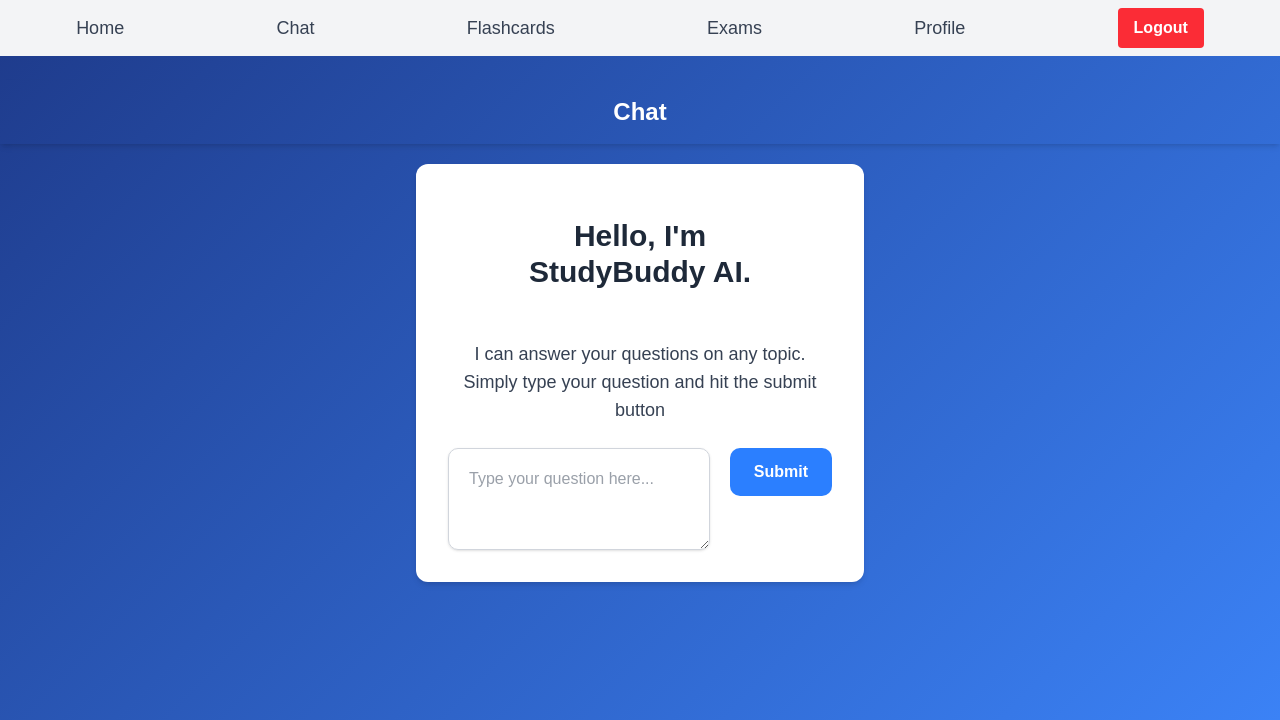
Test: ChatPage Feature › should send a prompt and display a reply
Type "What is the capital of Spain?" into the text box with placeholder "Type your question here..." at (579, 499), box 448,448 -> 710,550
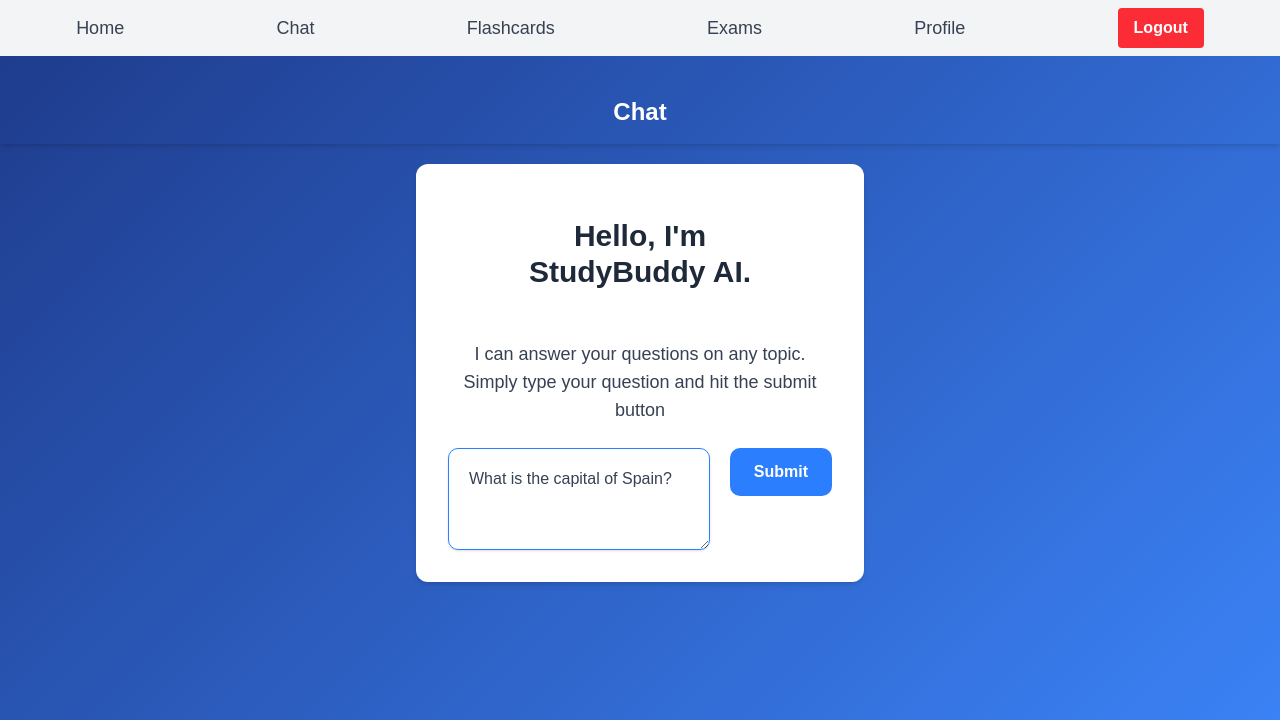
Click the button with id "submit-prompt" at (781, 472), box 730,448 -> 832,496
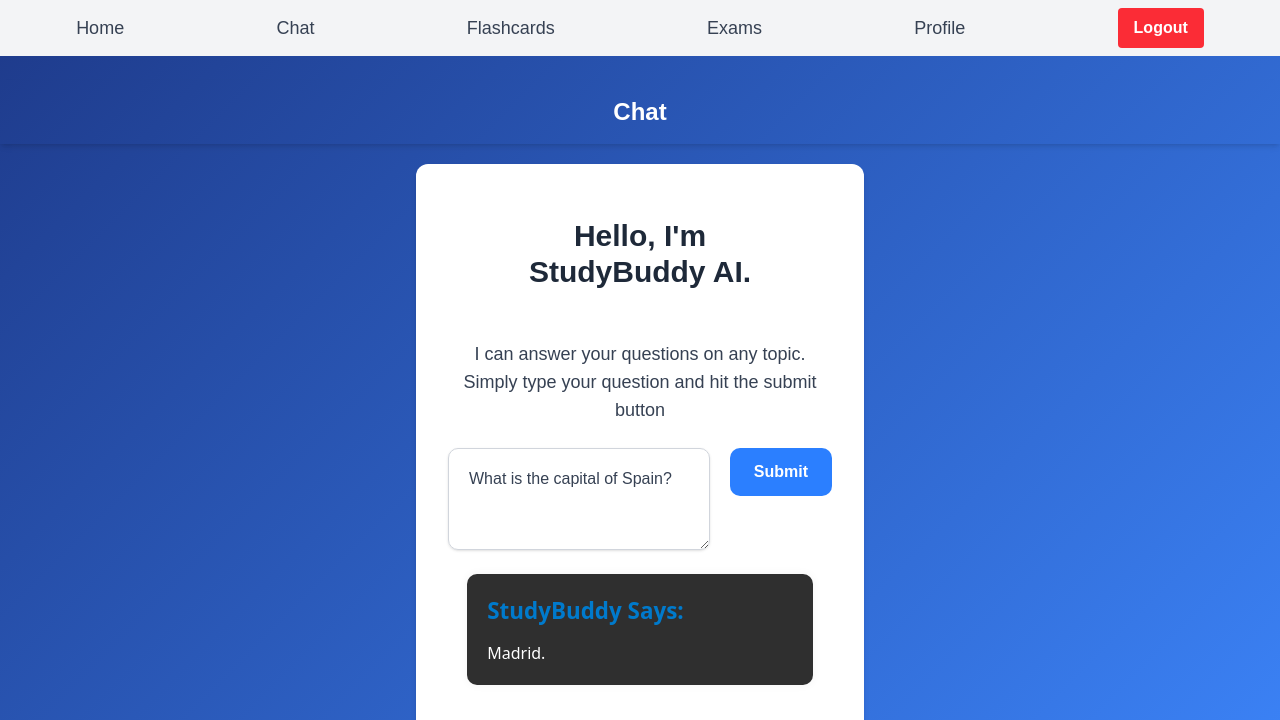
Now the element with id "reply-container" is shown, box 467,574 -> 813,685
Now the heading with id "reply-block" reads "StudyBuddy Says:", box 487,595 -> 683,626
Now the text "Madrid." is shown, box 487,642 -> 545,664
